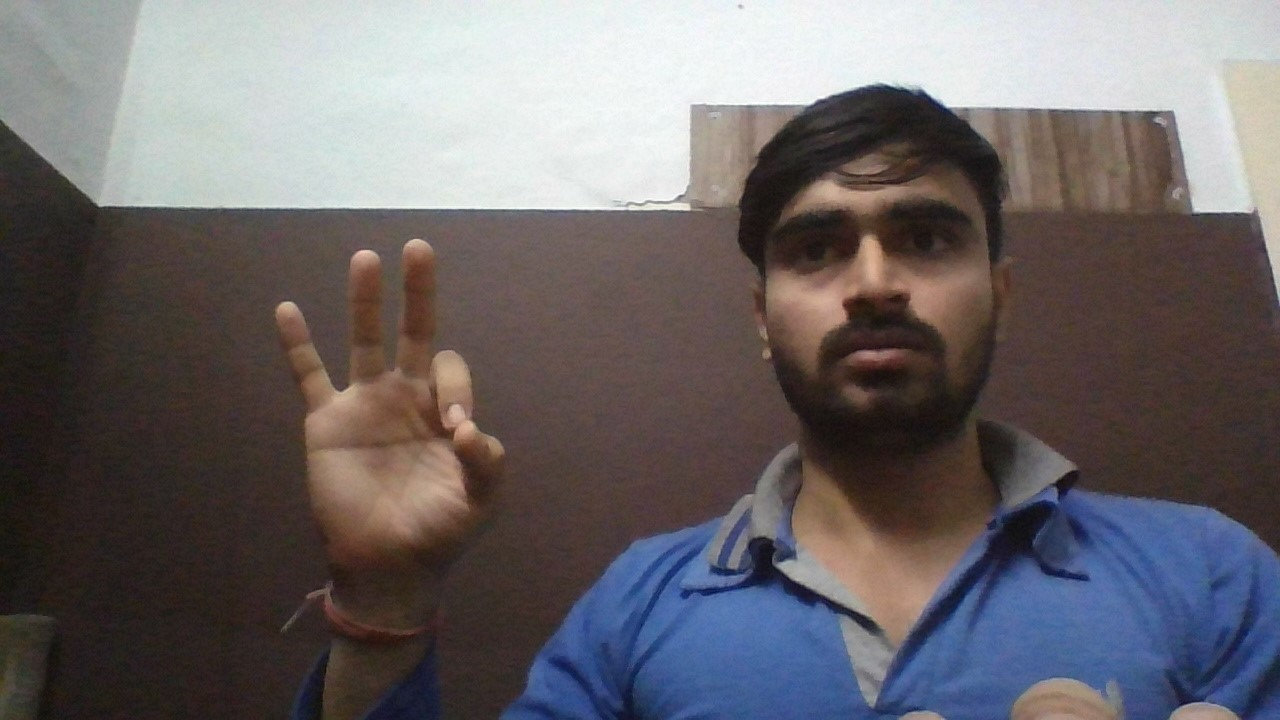F: (266, 230, 516, 593)
